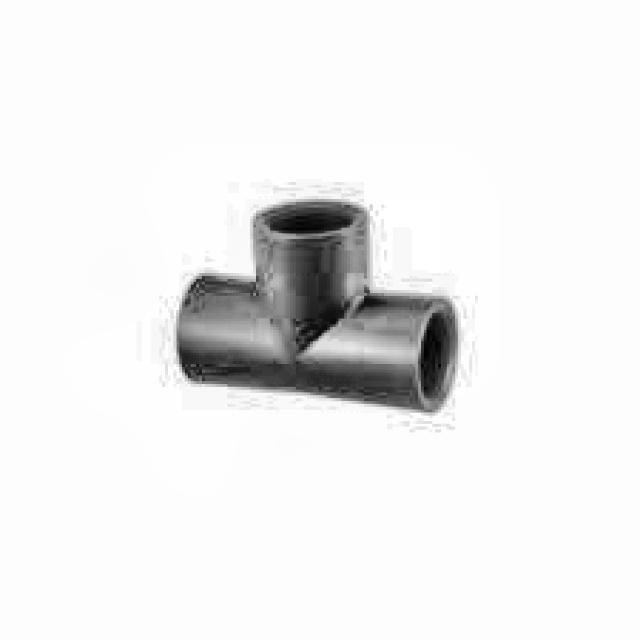EQUALTEE: (176, 199, 461, 415)
